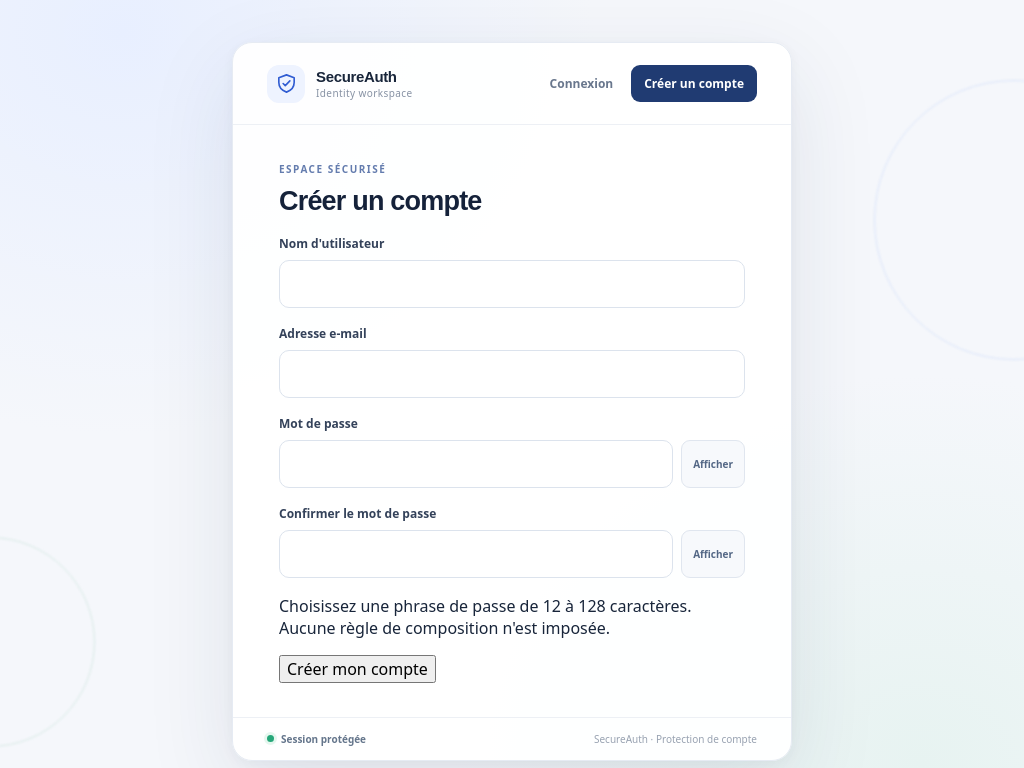
Test: frontend security behavior › posts registration and shows a neutral success message
Type "alice" into the field labelled "Nom d'utilisateur" at (512, 284), box [279, 260, 745, 308]
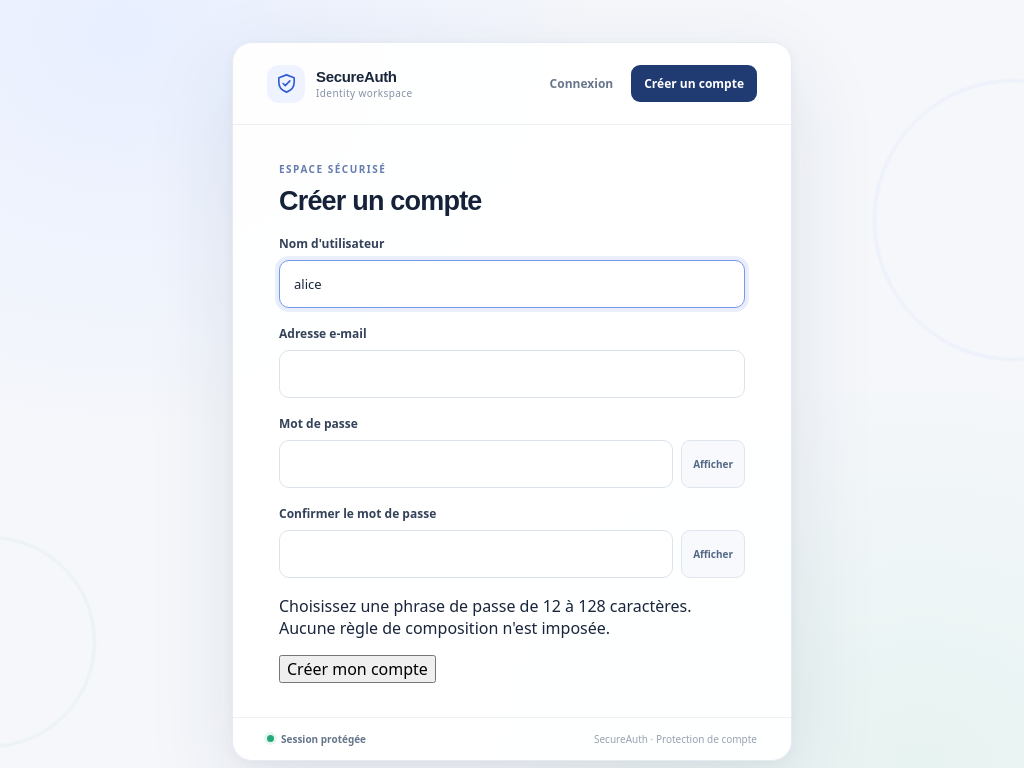
Type "alice@example.test" into the field labelled "Adresse e-mail" at (512, 374), box [279, 350, 745, 398]
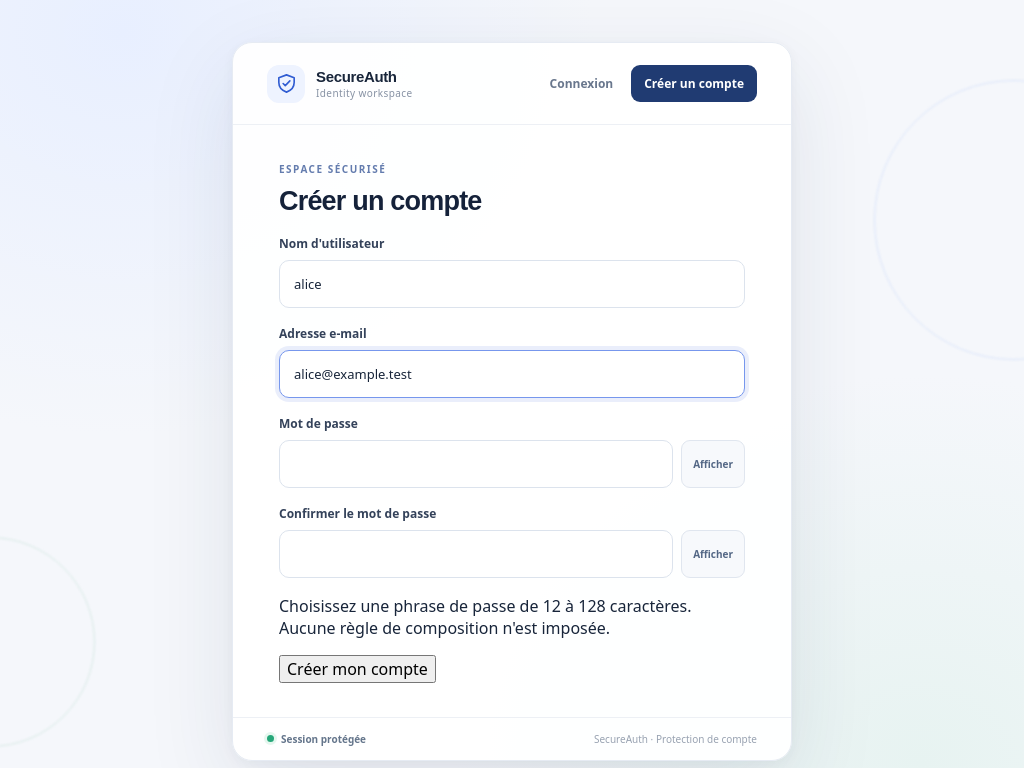
Type "a long passphrase" into the password field labelled "Mot de passe" at (476, 464), box [279, 440, 673, 488]
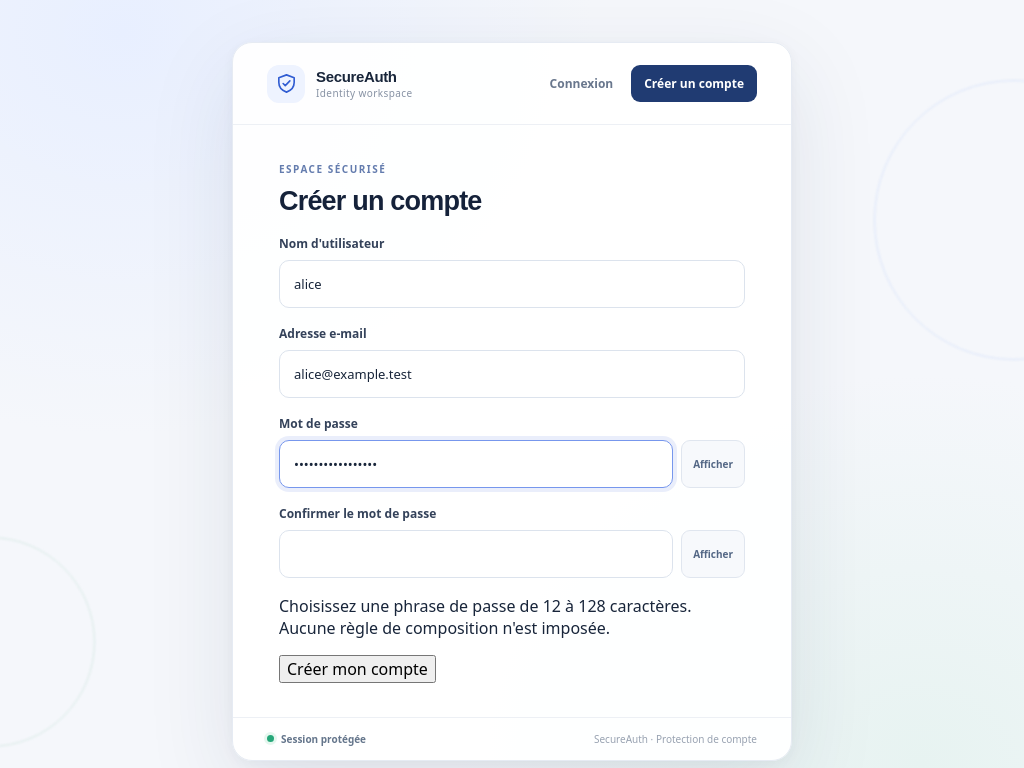
Type "a long passphrase" into the password field labelled "Confirmer le mot de passe" at (476, 554), box [279, 530, 673, 578]
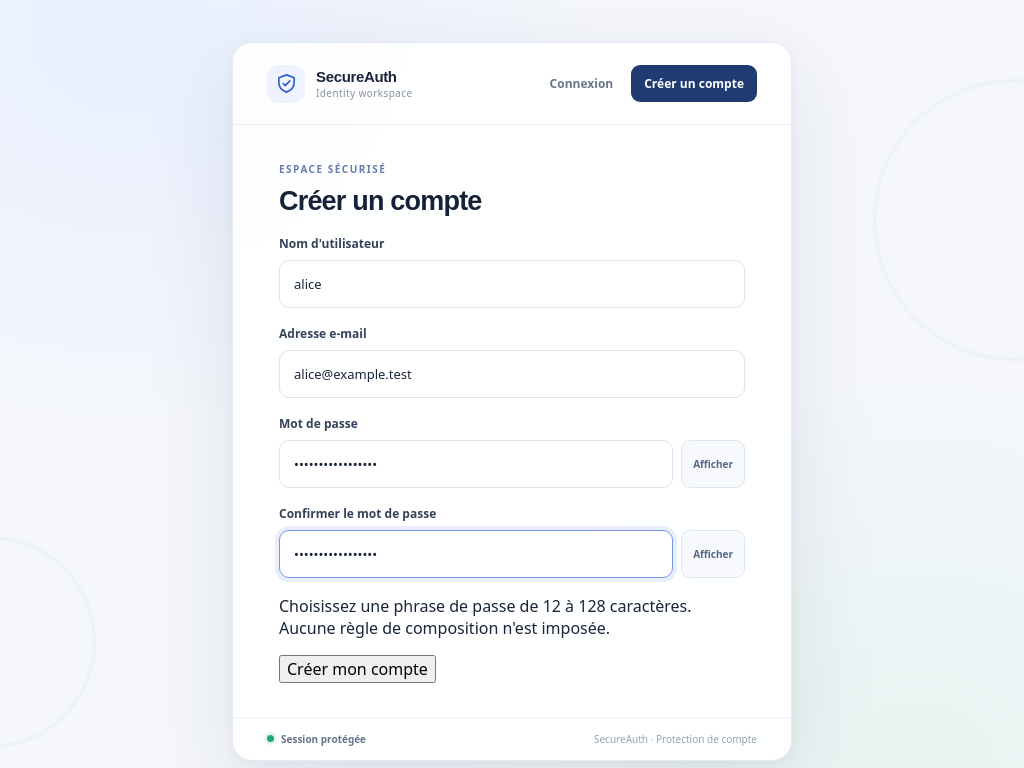
Click the button "Créer mon compte" at (357, 669), box [279, 655, 436, 683]
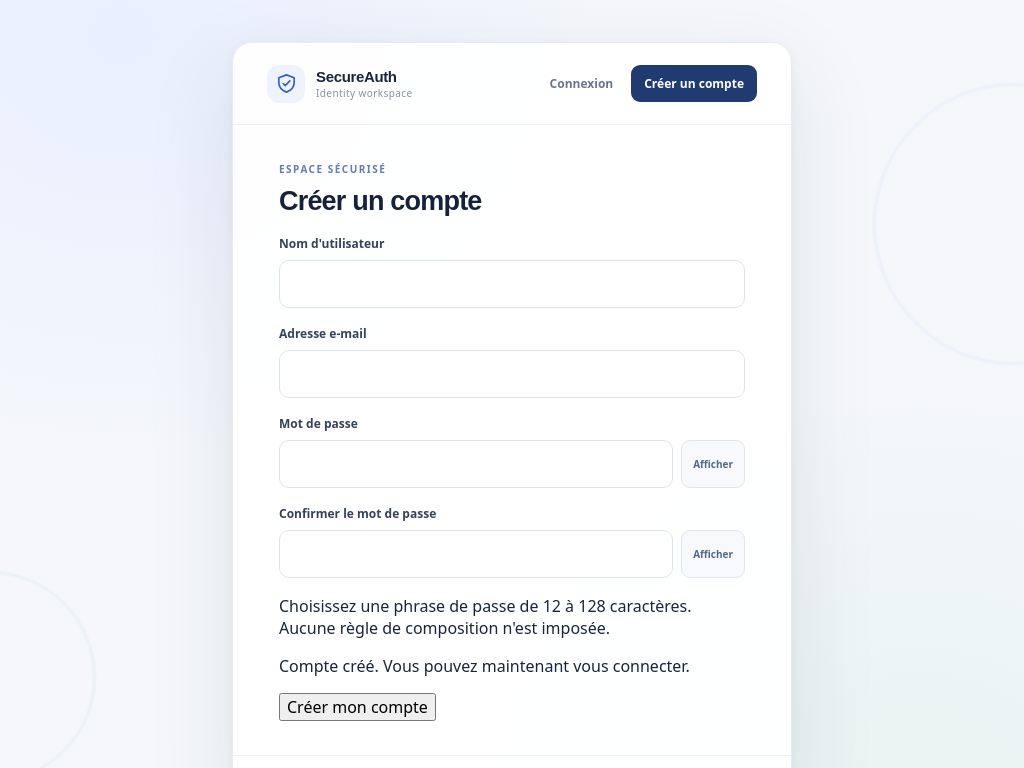
Now the message shows "Vous pouvez maintenant vous connecter", box [279, 655, 690, 677]
